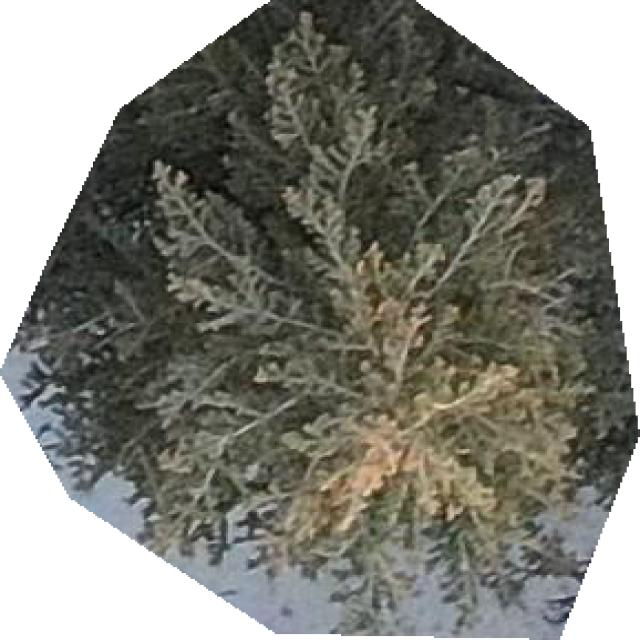spruce: (0, 0, 638, 638)
